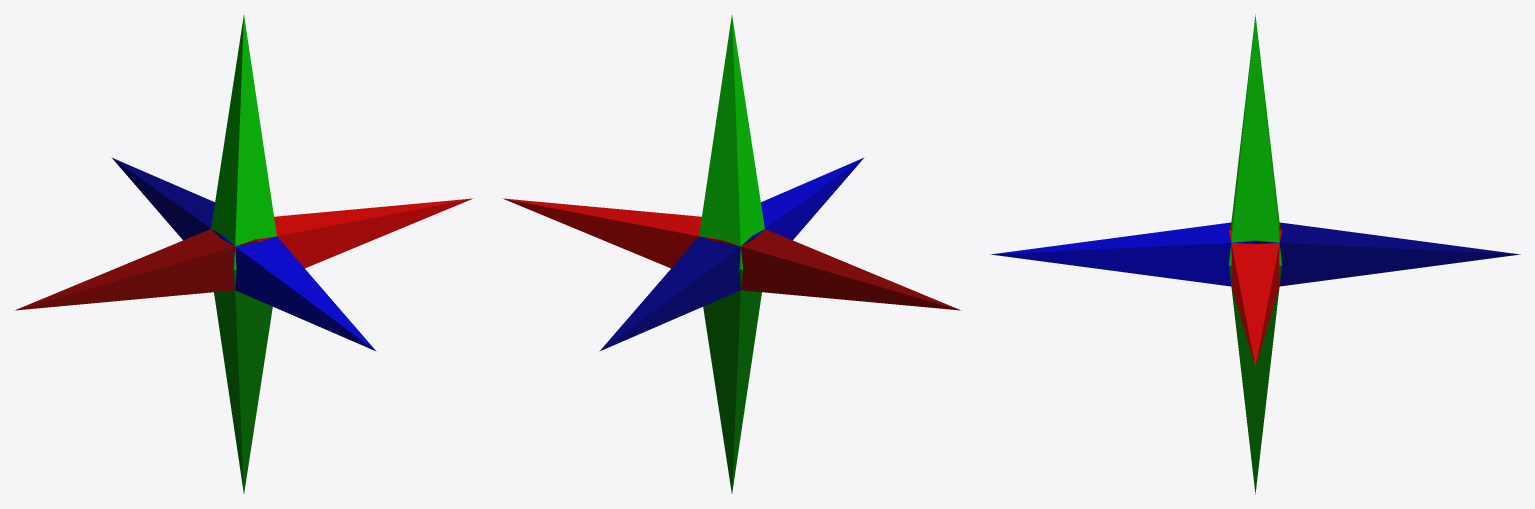
3 views of the same model, side by side, from view 1: azimuth 30°, elevation 25°; view 2: azimuth 150°, elevation 25°; view 3: azimuth 270°, elevation 25° (orthographic).
Bounding box in the file's own units: 2 × 2 × 2.
